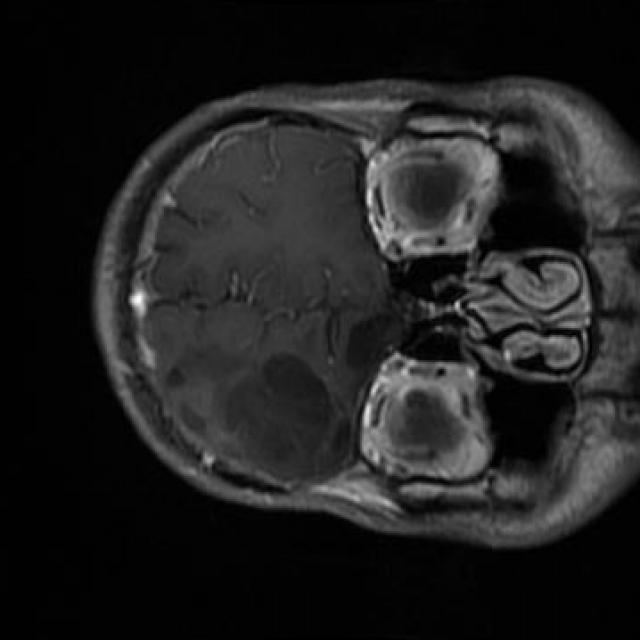glioma: (228, 357, 357, 481)
